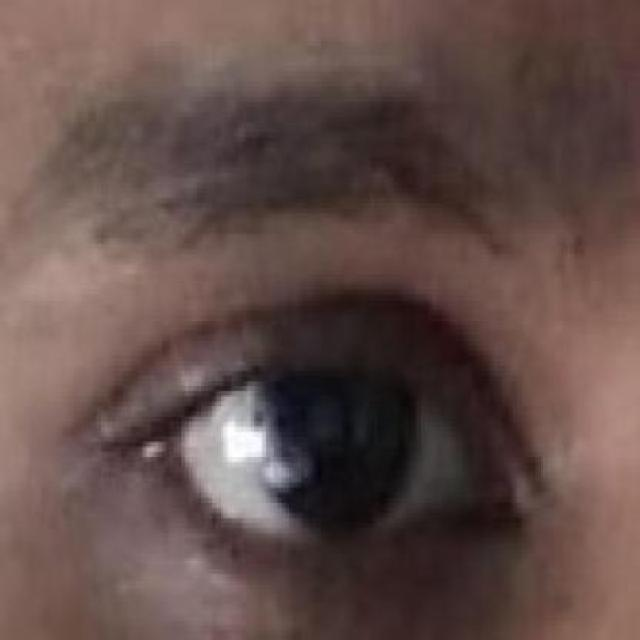awake: (112, 299, 532, 590)
